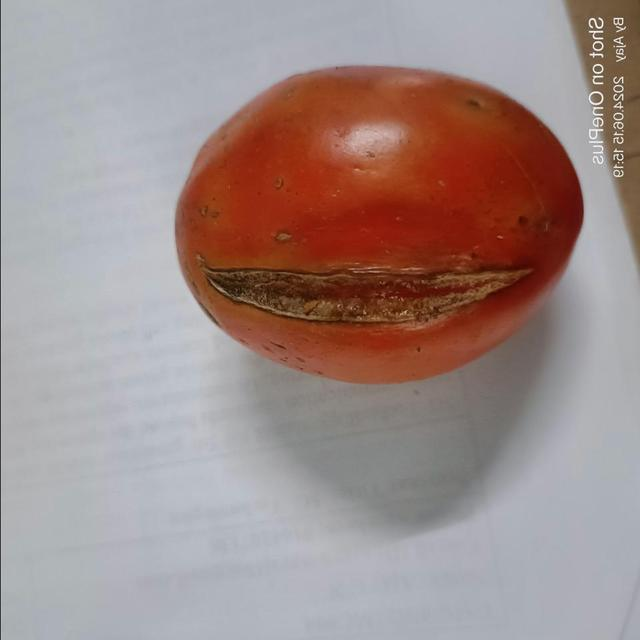Cracking Fruit: (59, 76, 211, 284)
